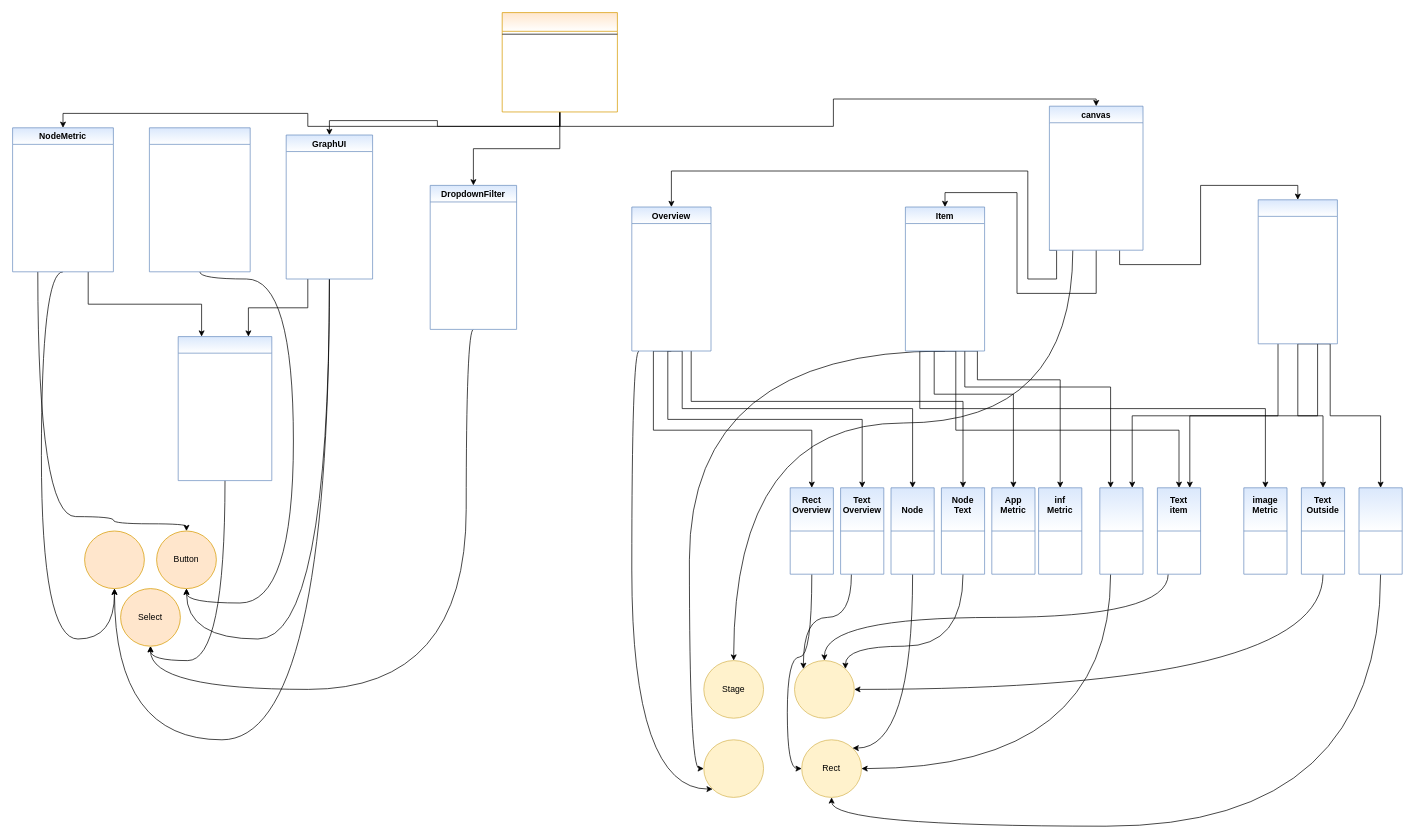
This 1415x839 diagram has some shape labels left out. Here are the shapes that lost their labels. From the top down, the centre of each, then its label:
pixel 559 62: SimplePanel.tsx
pixel 199 199: drilldown
pixel 1297 271: outside
pixel 224 408: Dropdown
pixel 1121 530: Rect Item
pixel 1380 530: Rect Outside
pixel 114 559: Graph
pixel 824 689: Text
pixel 733 768: Layer
